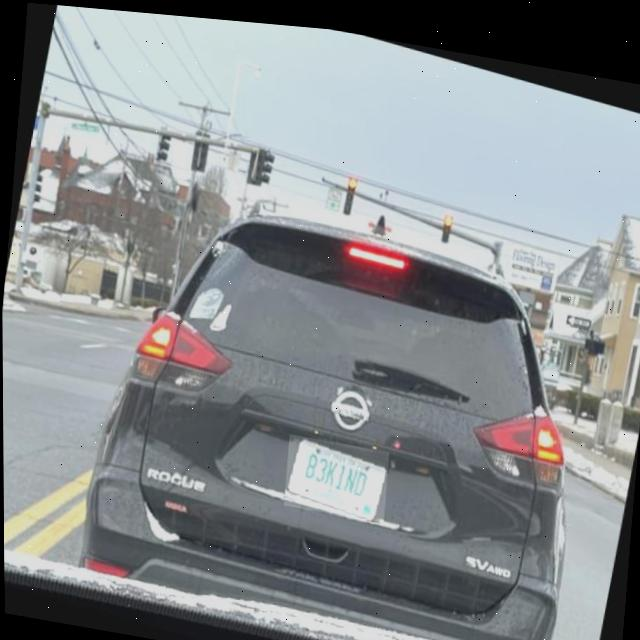LicensePlate: (284, 431, 387, 514)
